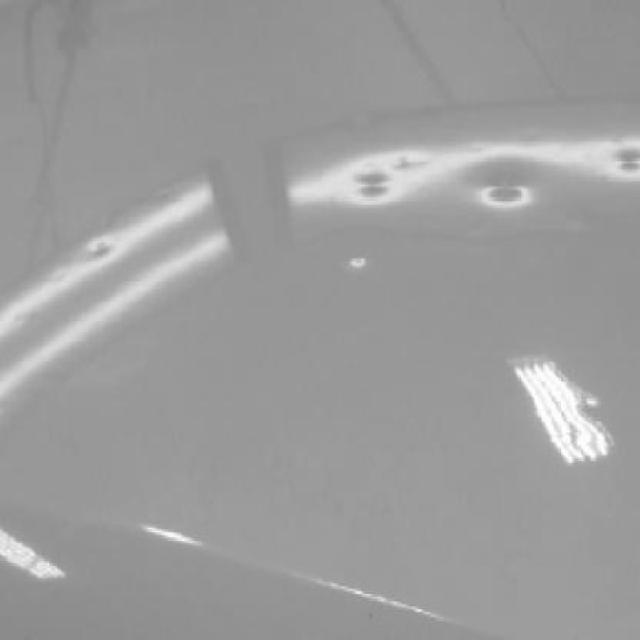dent: (352, 167, 394, 202), (478, 185, 534, 205), (611, 146, 640, 174), (85, 239, 116, 262), (397, 157, 430, 170), (348, 255, 368, 268)
